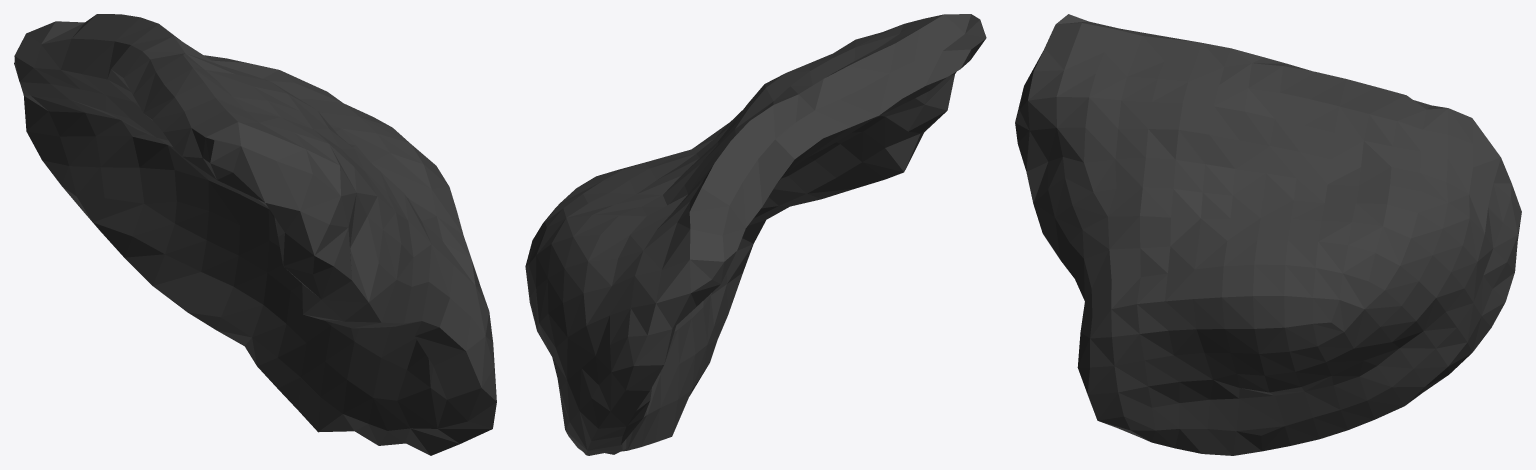
Rendered from PULMONARY_VEINS_L.glb.
The picture shows the model from 3 angles, left to right: view 1: azimuth 30°, elevation 25°; view 2: azimuth 150°, elevation 25°; view 3: azimuth 270°, elevation 25°; orthographic projection. The views are drawn at different scales.
Visible parts, largest first — view 1: PULMONARY_VEINS_L; view 2: PULMONARY_VEINS_L; view 3: PULMONARY_VEINS_L.
Part boxes in pixels (left/top/right/bottom): PULMONARY_VEINS_L: left=14, top=14, right=496, bottom=455; PULMONARY_VEINS_L: left=525, top=14, right=986, bottom=455; PULMONARY_VEINS_L: left=1015, top=14, right=1521, bottom=455.
Bounding box in the file's own units: 23.2 × 27.39 × 36.5.
1 material, 1 textured.
